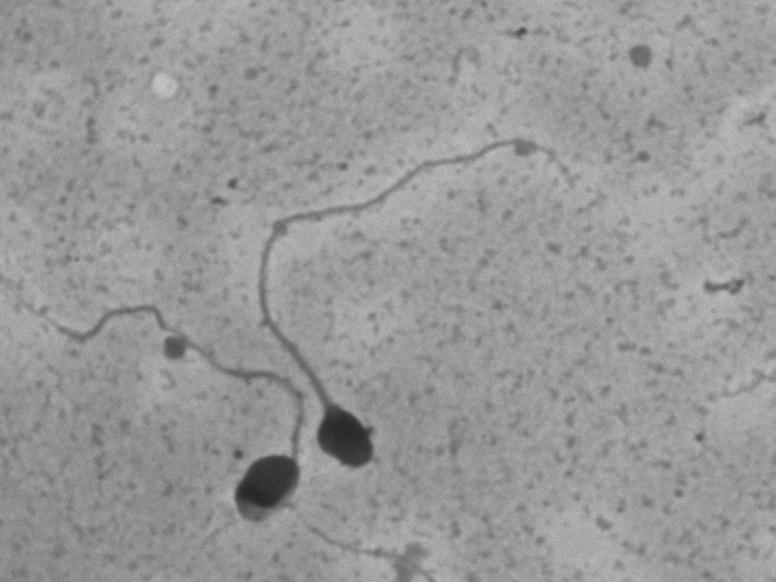Abnormal: (193, 111, 595, 488), (46, 283, 318, 537)
